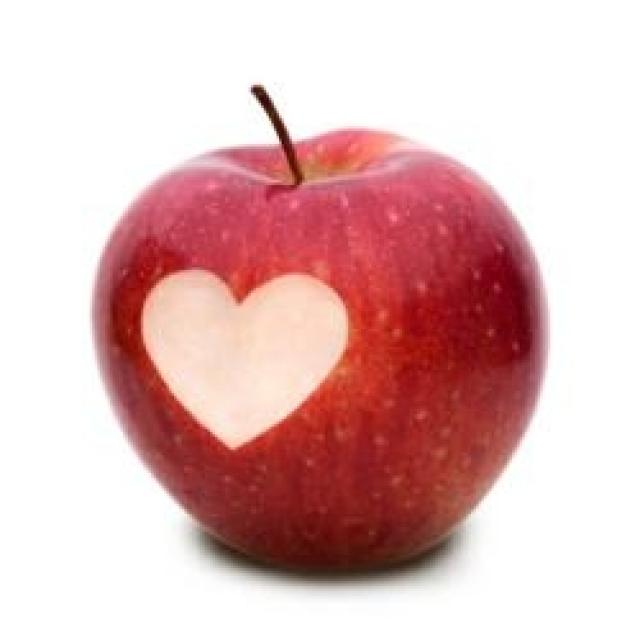Quả táo: (87, 82, 550, 573)
